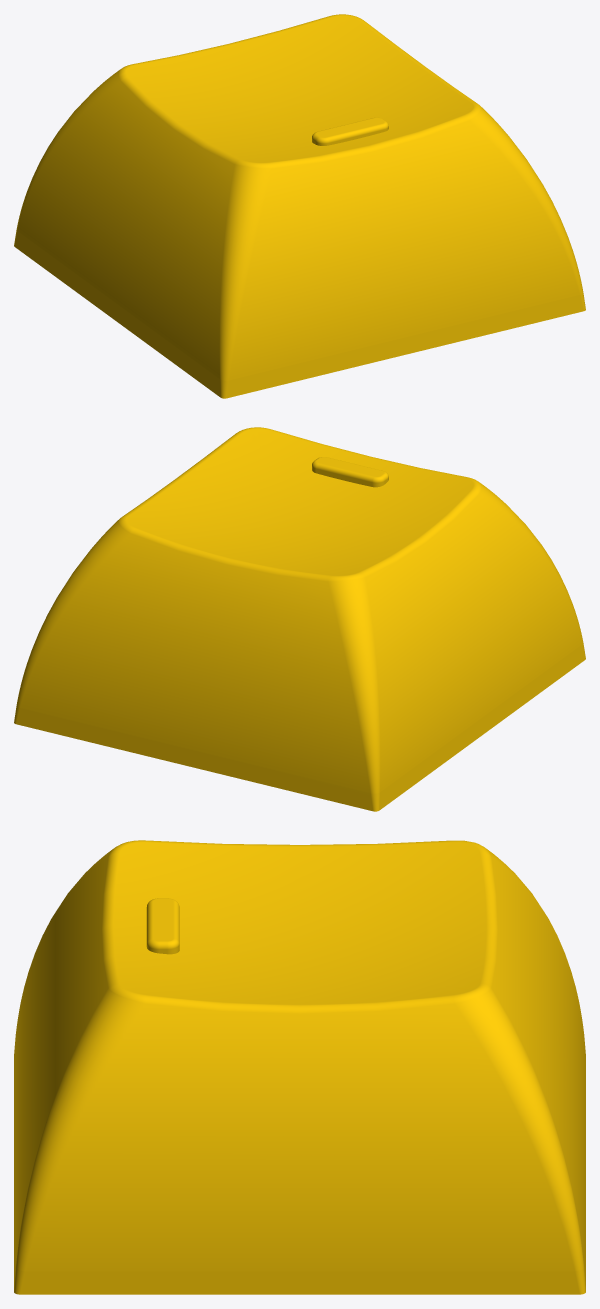
The model's file is 1u_nub.glb.
3 renders of one model, top to bottom at view 1: azimuth 30°, elevation 25°; view 2: azimuth 150°, elevation 25°; view 3: azimuth 270°, elevation 25°, orthographic. The views are drawn at different scales.
Parts seen in each view (by area): view 1: Body75; view 2: Body75; view 3: Body75.
Boxes of the visible parts, x1=… form: Body75: x1=14, y1=14, x2=585, y2=398; Body75: x1=14, y1=427, x2=585, y2=811; Body75: x1=14, y1=840, x2=585, y2=1294.
Size of the model in its own units: 18.31 by 9.05 by 18.31.
